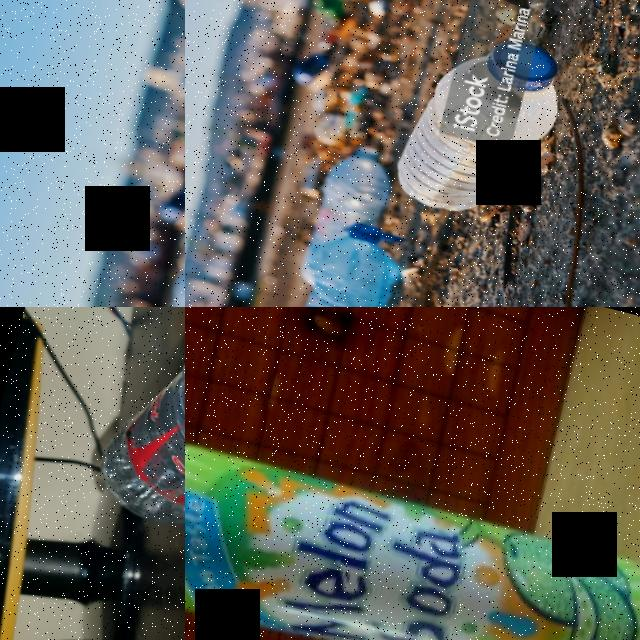bottle: (79, 307, 185, 583)
can: (185, 432, 640, 640)
